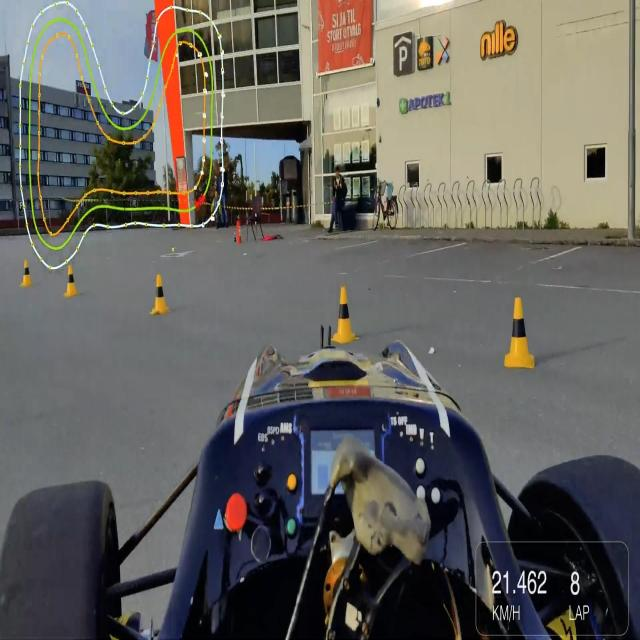yellow_cone: (506, 298, 536, 368), (330, 286, 360, 344), (150, 274, 171, 315), (64, 265, 80, 298), (20, 260, 33, 287)
